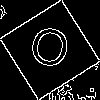O: (25, 25, 73, 78)
